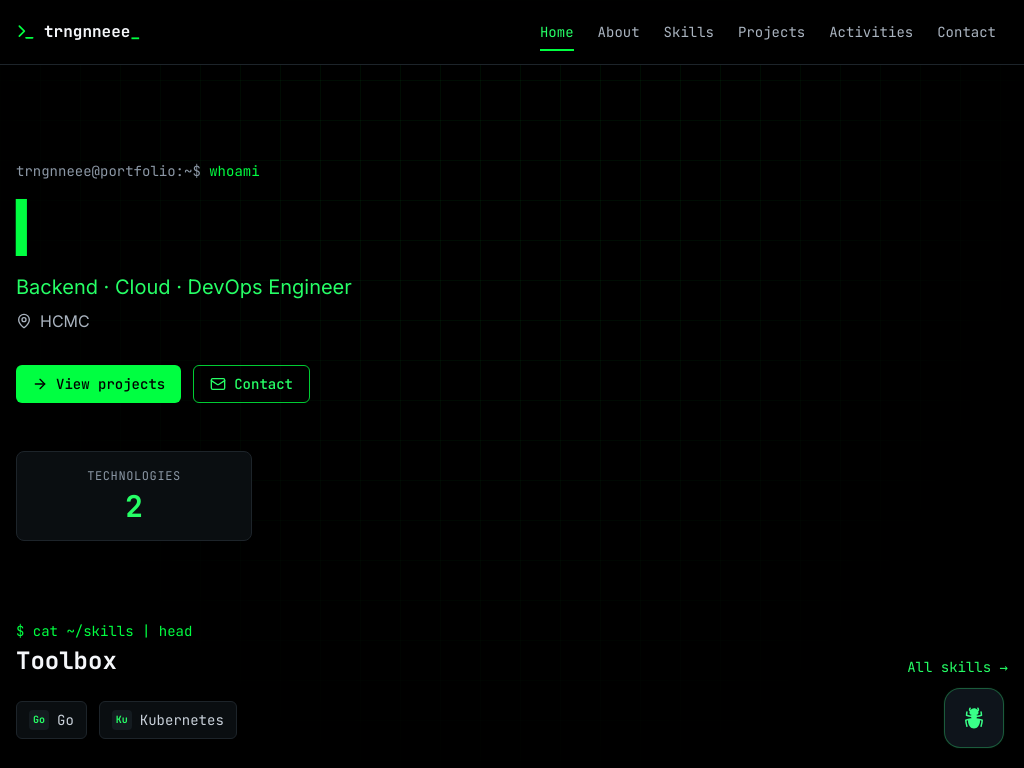
Spidey widget › bot demands Turnstile but the build has no site key → clear error, no endless 'retrying'
Click the button named "Ask Spidey".
click(974, 718)  # box [944,688,1004,748]
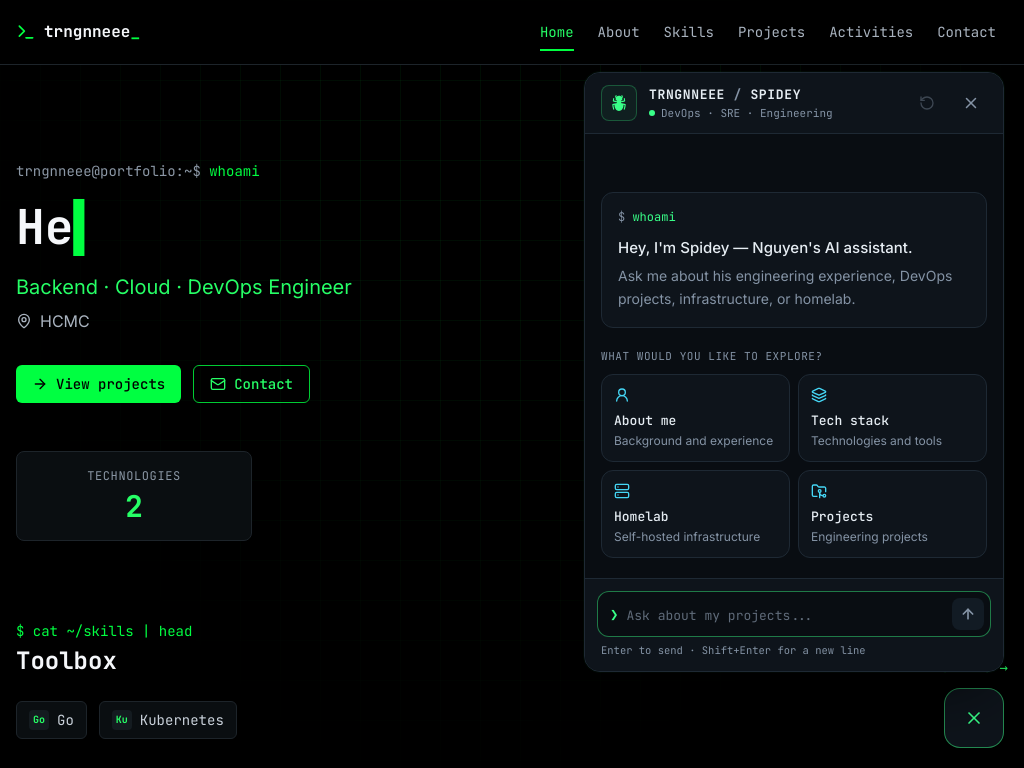
Type "Hi" into the text box named "Message Spidey".
click(785, 616); type("Hi")  # box [626,601,944,630]
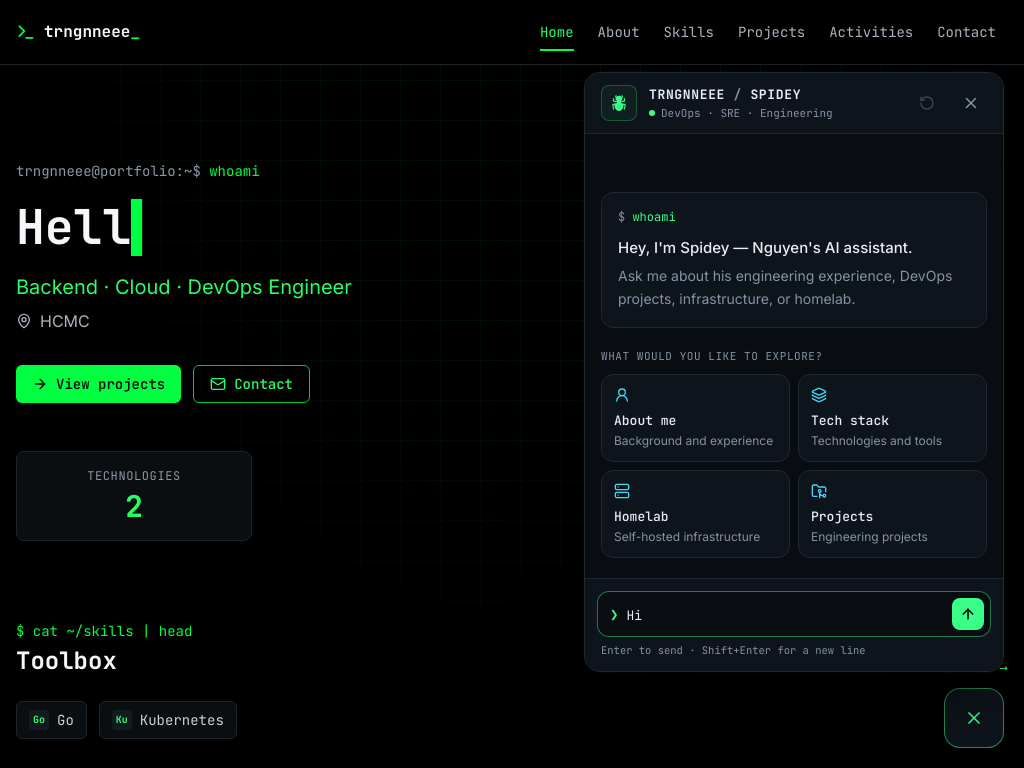
Result: the button named "Send message" is enabled at [952,598,984,630]
Press Enter
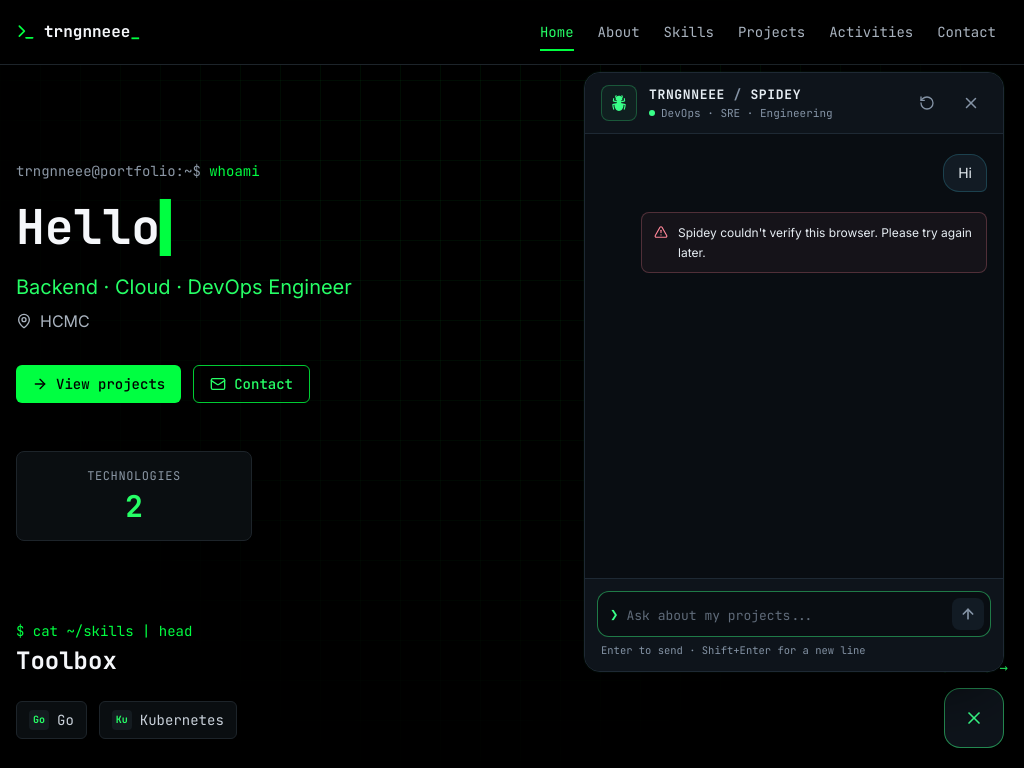
Expected: the message does not show "retrying automatically", [641,212,987,273]
Result: the message shows "Spidey couldn't verify this browser" at [678,225,972,260]
